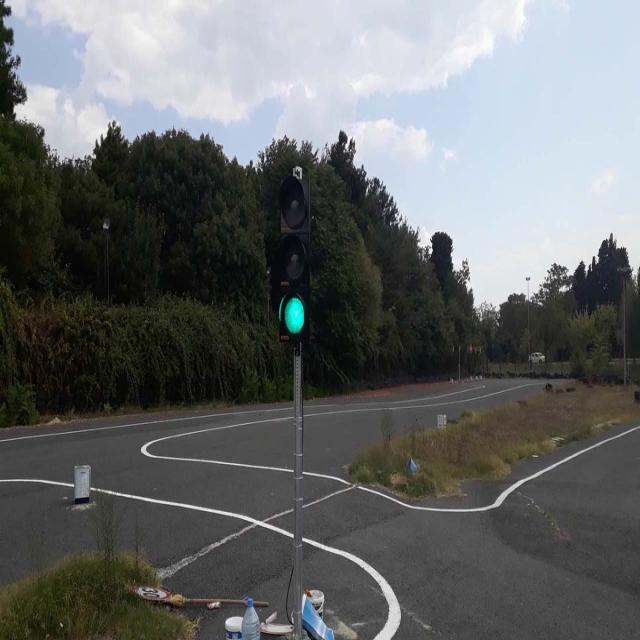yesil: (280, 177, 308, 339)
